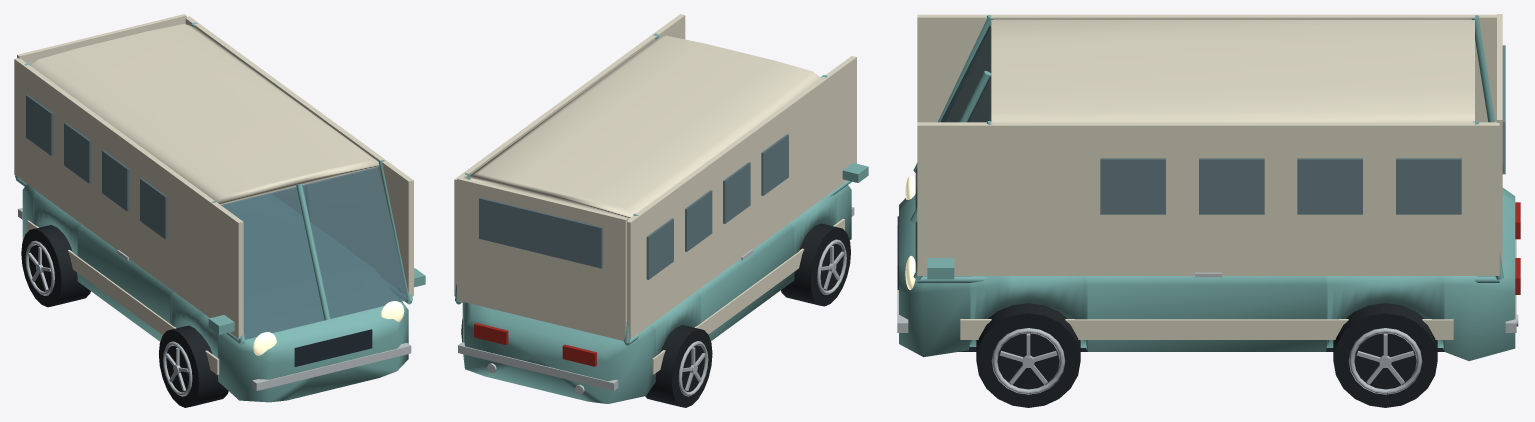
Rendered from kombu.glb.
The picture shows the model from 3 angles, left to right: view 1: azimuth 30°, elevation 25°; view 2: azimuth 150°, elevation 25°; view 3: azimuth 270°, elevation 25°; orthographic projection. The views are drawn at different scales.
Visible parts, largest first — view 1: secondary-paint, windows, exterior-paint, tire-front-left, tire-rear-left, chrome, black-trim, rim-front-left, rim-rear-left, headlights; view 2: secondary-paint, exterior-paint, windows, tire-front-left, tire-rear-left, chrome, taillights, rim-rear-left, rim-front-left; view 3: secondary-paint, exterior-paint, windows, tire-front-right, tire-rear-right, rim-front-right, rim-rear-right, chrome.
Part boxes in pixels (left/top/right/bottom): secondary-paint: left=14, top=14, right=413, bottom=374; windows: left=26, top=94, right=408, bottom=339; exterior-paint: left=15, top=22, right=425, bottom=402; tire-front-left: left=159, top=325, right=228, bottom=407; tire-rear-left: left=21, top=225, right=90, bottom=307; chrome: left=18, top=208, right=411, bottom=390; black-trim: left=294, top=203, right=400, bottom=366; rim-front-left: left=163, top=341, right=192, bottom=396; rim-rear-left: left=25, top=241, right=54, bottom=295; headlights: left=253, top=301, right=404, bottom=355; secondary-paint: left=454, top=14, right=856, bottom=374; exterior-paint: left=455, top=33, right=868, bottom=403; windows: left=479, top=134, right=788, bottom=279; tire-front-left: left=781, top=223, right=850, bottom=306; tire-rear-left: left=645, top=325, right=712, bottom=407; chrome: left=458, top=207, right=854, bottom=394; taillights: left=474, top=323, right=596, bottom=366; rim-rear-left: left=678, top=341, right=708, bottom=396; rim-front-left: left=817, top=239, right=846, bottom=294; secondary-paint: left=917, top=14, right=1502, bottom=339; exterior-paint: left=899, top=14, right=1515, bottom=360; windows: left=915, top=26, right=1505, bottom=271; tire-front-right: left=976, top=303, right=1080, bottom=407; tire-rear-right: left=1333, top=303, right=1437, bottom=407; rim-front-right: left=991, top=328, right=1065, bottom=394; rim-rear-right: left=1348, top=328, right=1422, bottom=394; chrome: left=897, top=225, right=1518, bottom=332.
Size of the model in its own units: 1.92 by 1.82 by 3.7.
